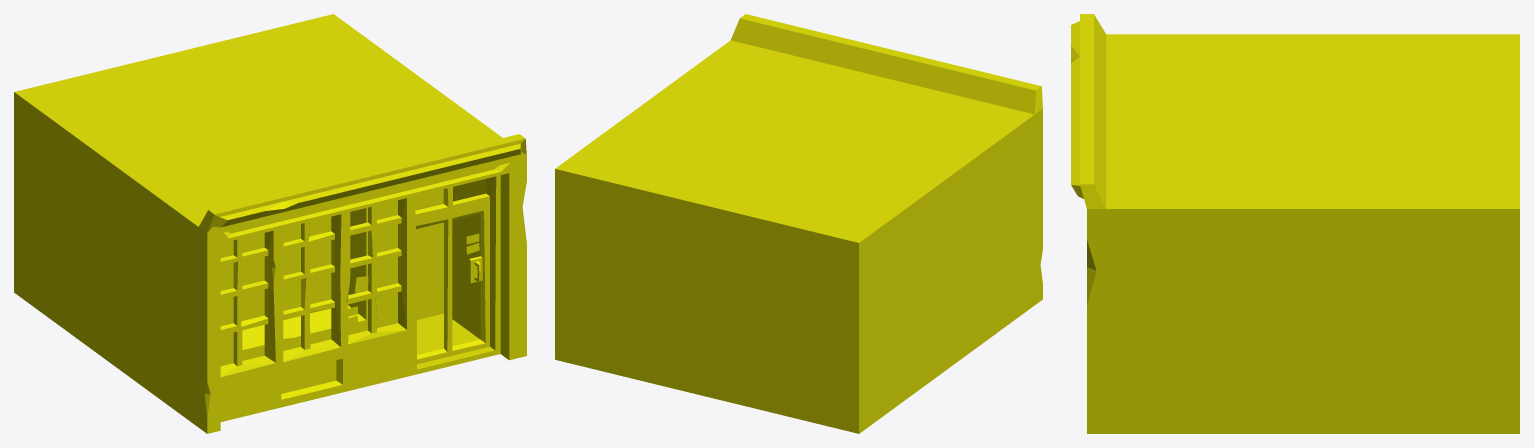
The model's file is cty_shop2.glb.
The picture shows the model from 3 angles, left to right: view 1: azimuth 30°, elevation 25°; view 2: azimuth 150°, elevation 25°; view 3: azimuth 270°, elevation 25°; orthographic projection. The views are drawn at different scales.
Visible parts, largest first — view 1: SM_Bld_Shop_02; view 2: SM_Bld_Shop_02; view 3: SM_Bld_Shop_02.
Boxes of the visible parts, left/top/right/bottom form: SM_Bld_Shop_02: left=14, top=14, right=526, bottom=433; SM_Bld_Shop_02: left=555, top=14, right=1042, bottom=433; SM_Bld_Shop_02: left=1071, top=14, right=1519, bottom=433.
Size of the model in its own units: 0.05 by 0.033 by 0.0543.
1 material, 1 textured.
